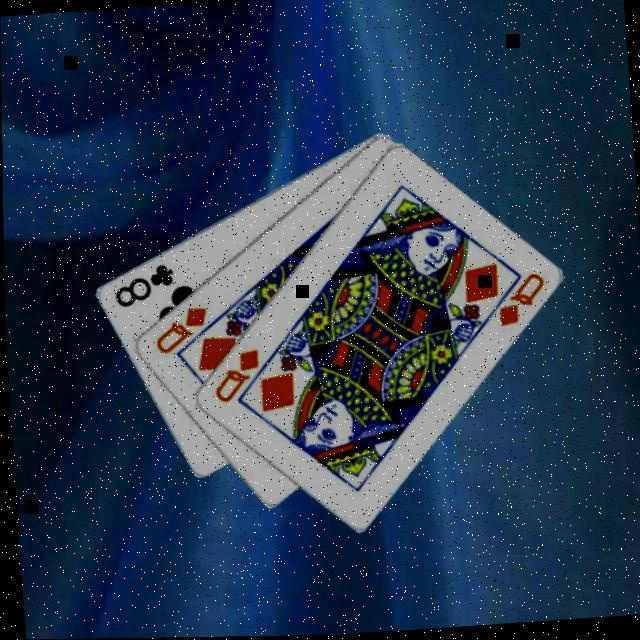8C: (110, 260, 178, 310)
QD: (493, 268, 551, 330), (150, 302, 213, 358), (209, 345, 265, 407)
